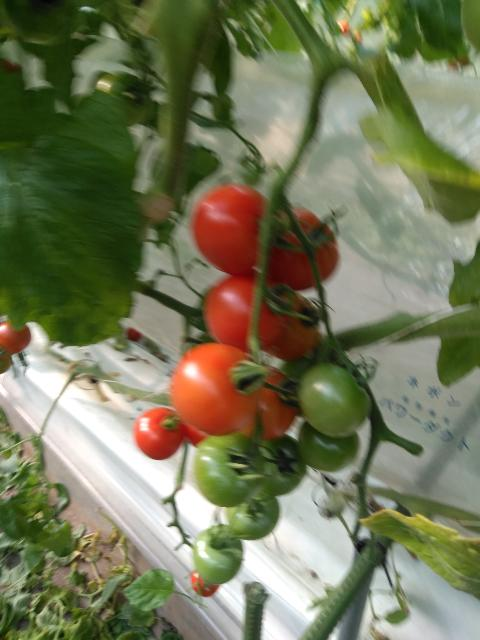l_fully_ripened: (203, 268, 291, 353), (190, 183, 270, 275), (267, 206, 339, 291), (134, 406, 183, 460), (0, 319, 30, 354), (190, 570, 220, 597)
l_green: (196, 432, 267, 508), (299, 363, 370, 438), (253, 433, 307, 498), (298, 420, 359, 472), (193, 524, 243, 584), (227, 491, 279, 541)
l_half_ripened: (172, 342, 260, 438), (235, 361, 299, 441), (260, 288, 318, 361)
